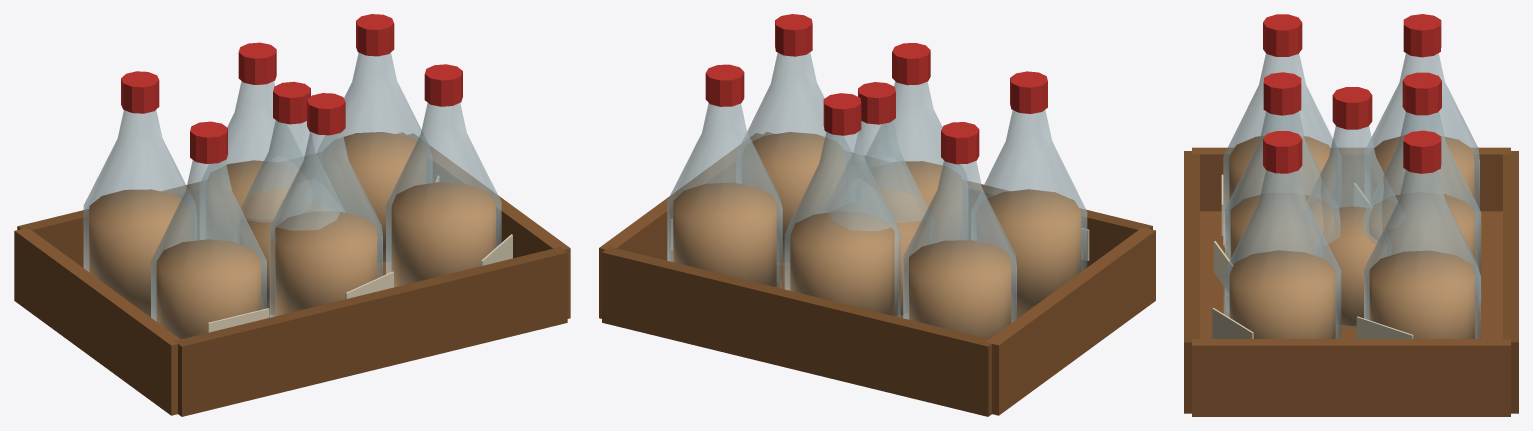
Rendered from Proc_MapleSyrup.fbx.
3 renders of one model, left to right at view 1: azimuth 30°, elevation 25°; view 2: azimuth 150°, elevation 25°; view 3: azimuth 270°, elevation 25°, orthographic.
Visible parts, largest first — view 1: Proc_MapleSyrup__Stack, Proc_MapleSyrup; view 2: Proc_MapleSyrup__Stack, Proc_MapleSyrup; view 3: Proc_MapleSyrup__Stack, Proc_MapleSyrup.
Boxes of the visible parts, x1,y1,x2,y2 form: Proc_MapleSyrup__Stack: (14, 14, 570, 416); Proc_MapleSyrup: (234, 81, 344, 316); Proc_MapleSyrup__Stack: (599, 14, 1155, 416); Proc_MapleSyrup: (824, 82, 934, 317); Proc_MapleSyrup__Stack: (1184, 14, 1518, 416); Proc_MapleSyrup: (1307, 87, 1397, 328).
Bounding box in the file's own units: 0.238 × 0.133 × 0.17.
